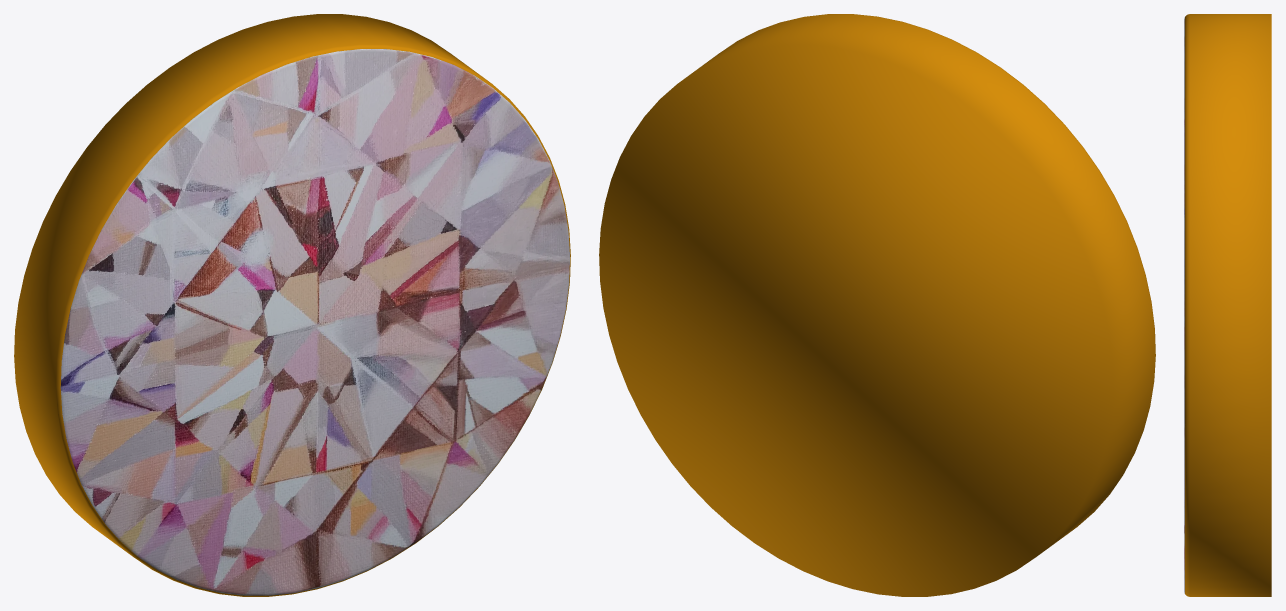
File: marlene.glb
3 views of the same model, side by side, from view 1: azimuth 30°, elevation 25°; view 2: azimuth 150°, elevation 25°; view 3: azimuth 270°, elevation 25° (orthographic).
Visible parts, largest first — view 1: marlene; view 2: marlene; view 3: marlene.
Boxes of the visible parts, <box> form: marlene: <box>14,14,570,596</box>; marlene: <box>599,14,1155,596</box>; marlene: <box>1184,14,1271,596</box>.
Bounding box in the file's own units: 0.2 × 0.2 × 0.03.
Materials: 2 (1 with a texture image).
